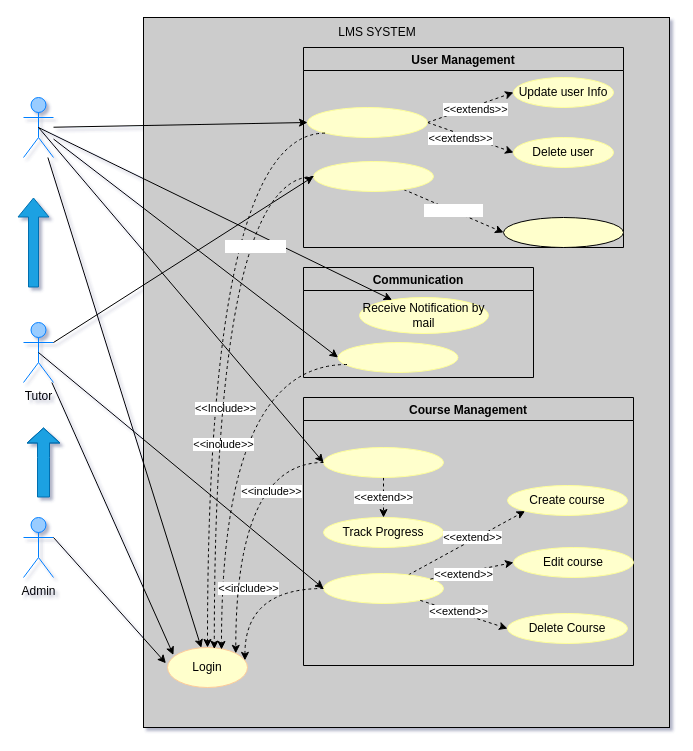
The diagram is 693 pixels wide and 751 high, and some of its shapes have lost their labels. The centre of each missing label's shape, as x and y in pixels:
Chat with users: (x=397, y=357)
Create Learner Account: (x=563, y=232)
Learner: (x=38, y=127)
Manage Courses: (x=383, y=588)
Manage Learner: (x=373, y=176)
Manage user: (x=367, y=122)
View Courses: (x=383, y=462)
